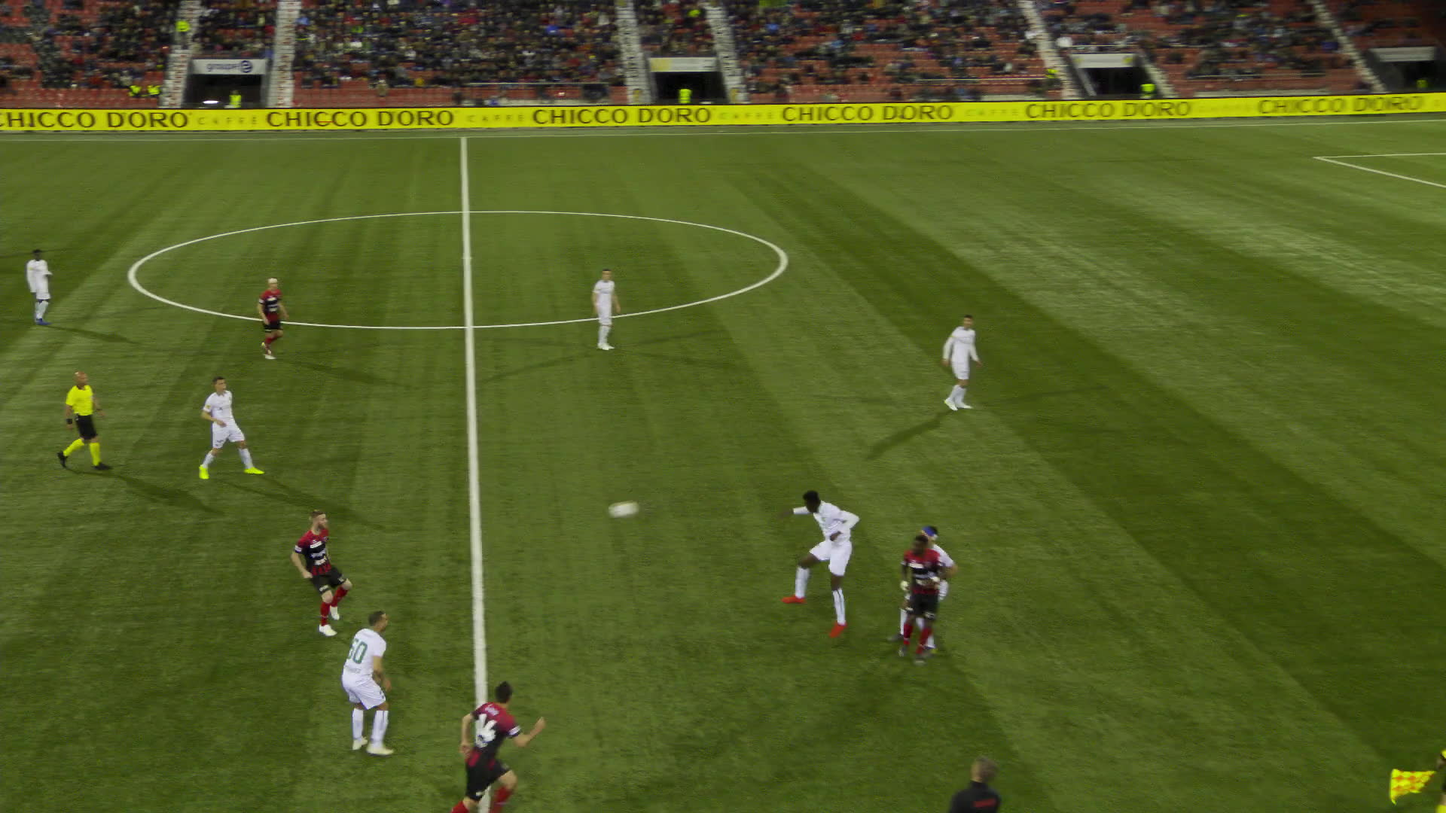ball: (644, 497, 673, 513)
player: (429, 678, 529, 812), (782, 490, 865, 630), (889, 528, 966, 656), (294, 506, 352, 638), (342, 607, 392, 758), (902, 537, 957, 665), (204, 376, 270, 479), (943, 318, 987, 413), (263, 277, 294, 362), (598, 267, 627, 352), (32, 248, 59, 324)
referee: (59, 370, 121, 472), (0, 95, 13, 134)
